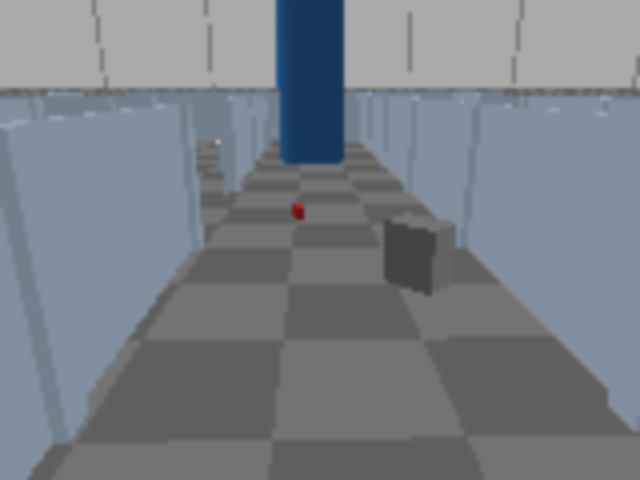obstacle: (382, 213, 457, 296)
person: (0, 0, 7, 158)
